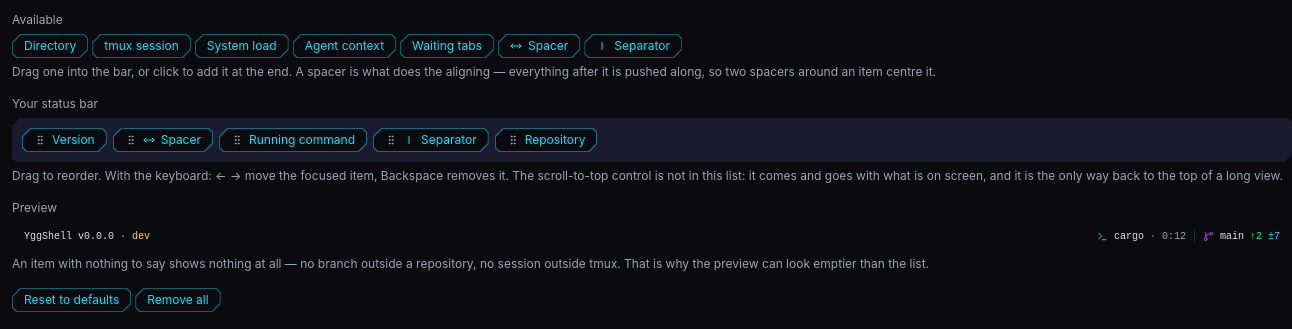
Scenario: StatusBarEditor › lets the bar be emptied, and says what that means
What coordinates should you click on to do the following:
click the button "Remove all"
I would click on:
 (178, 300)
Its box is [135,288,221,312].
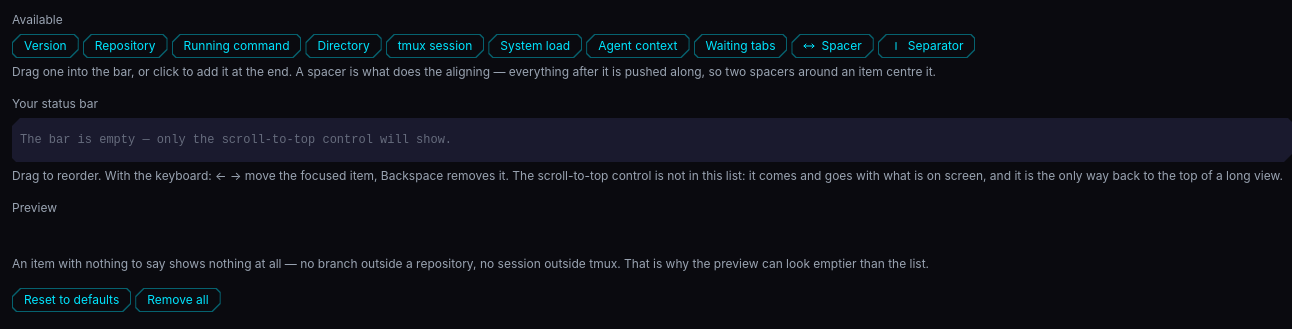
Expected: the list item "The bar is empty — only the scroll-to-top control will show." is shown, [20,132,452,148]
